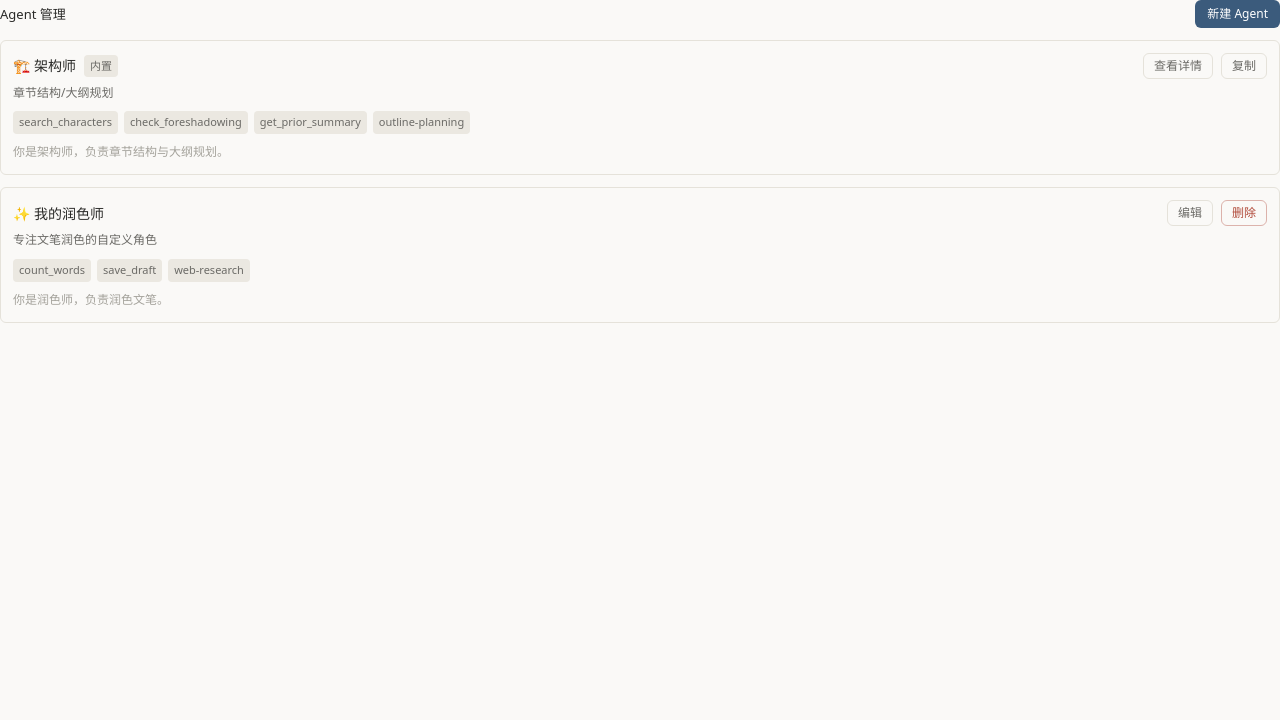
AgentList — 管理列表（内置只读 / 自定义可编辑） › 删除保护：自定义 Agent 删除确认 → 确认后 DELETE + 卡片消失
Expected: the element with test id "agent-card-2" is shown, x1=0 y1=188 x2=1279 y2=323
Click the button with test id "agent-del-2" at (1244, 214), box x1=1221 y1=200 x2=1267 y2=226
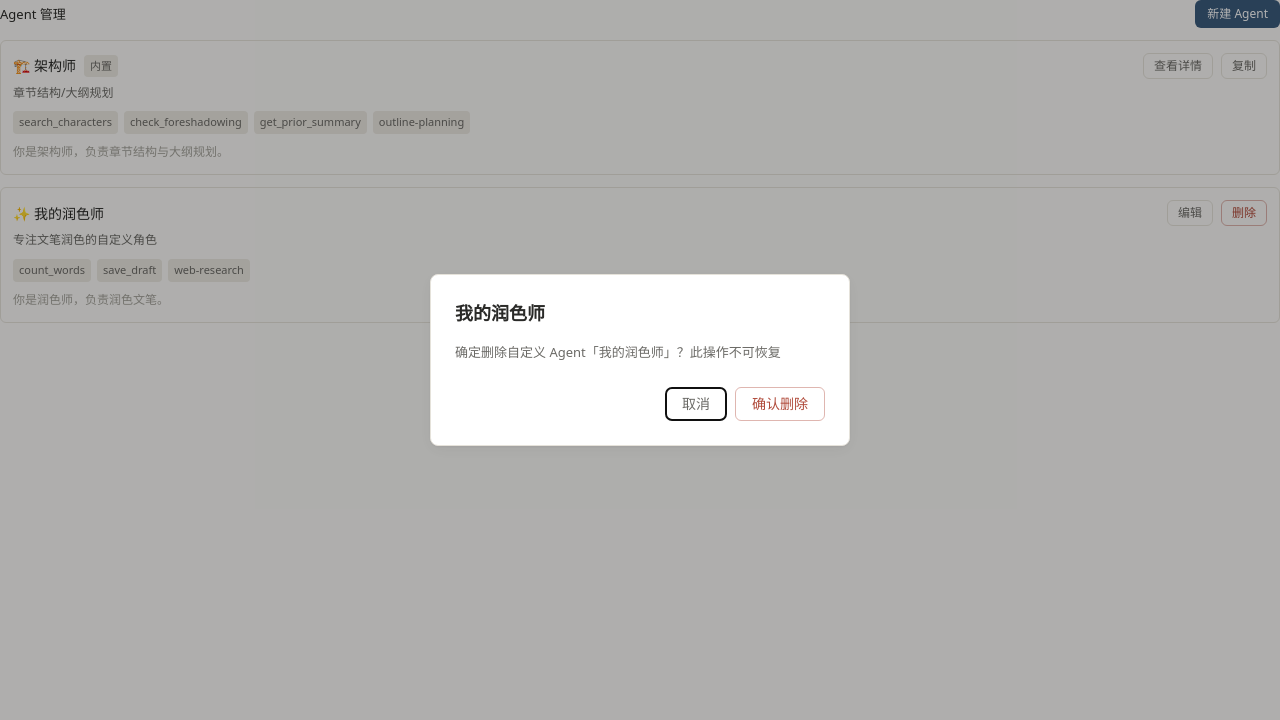
Expected: the dialog with test id "agent-delete-dialog" shows "我的润色师", x1=455 y1=304 x2=545 y2=324
Click the button with test id "agent-delete-ok" at (780, 404), box x1=735 y1=387 x2=825 y2=421
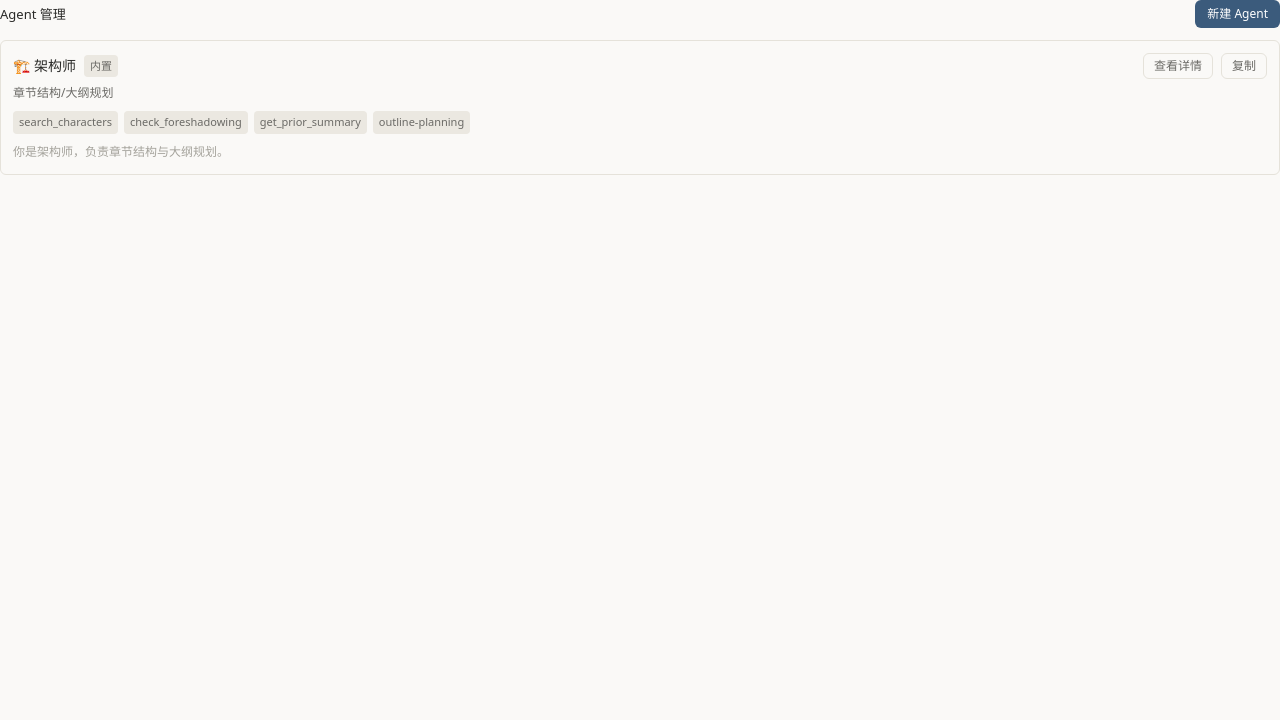
Expected: the element with test id "agent-card-1" is shown, x1=0 y1=40 x2=1279 y2=176
Expected: the element with test id "agent-card-2" is gone
